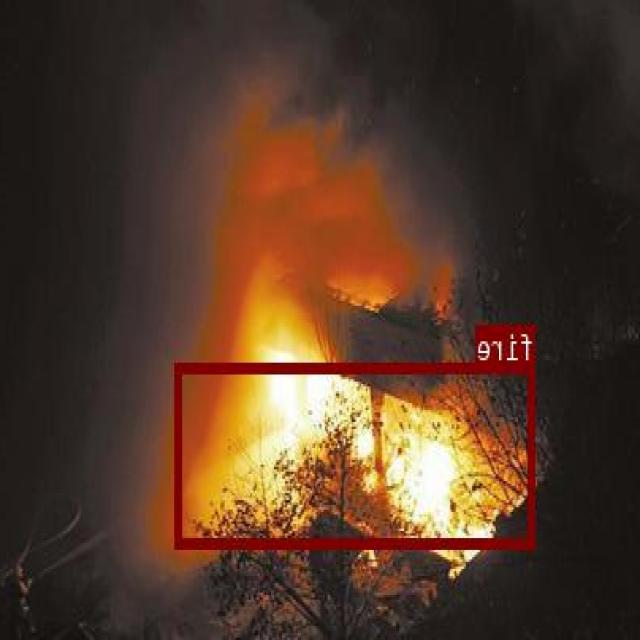fire: (176, 362, 536, 546)
